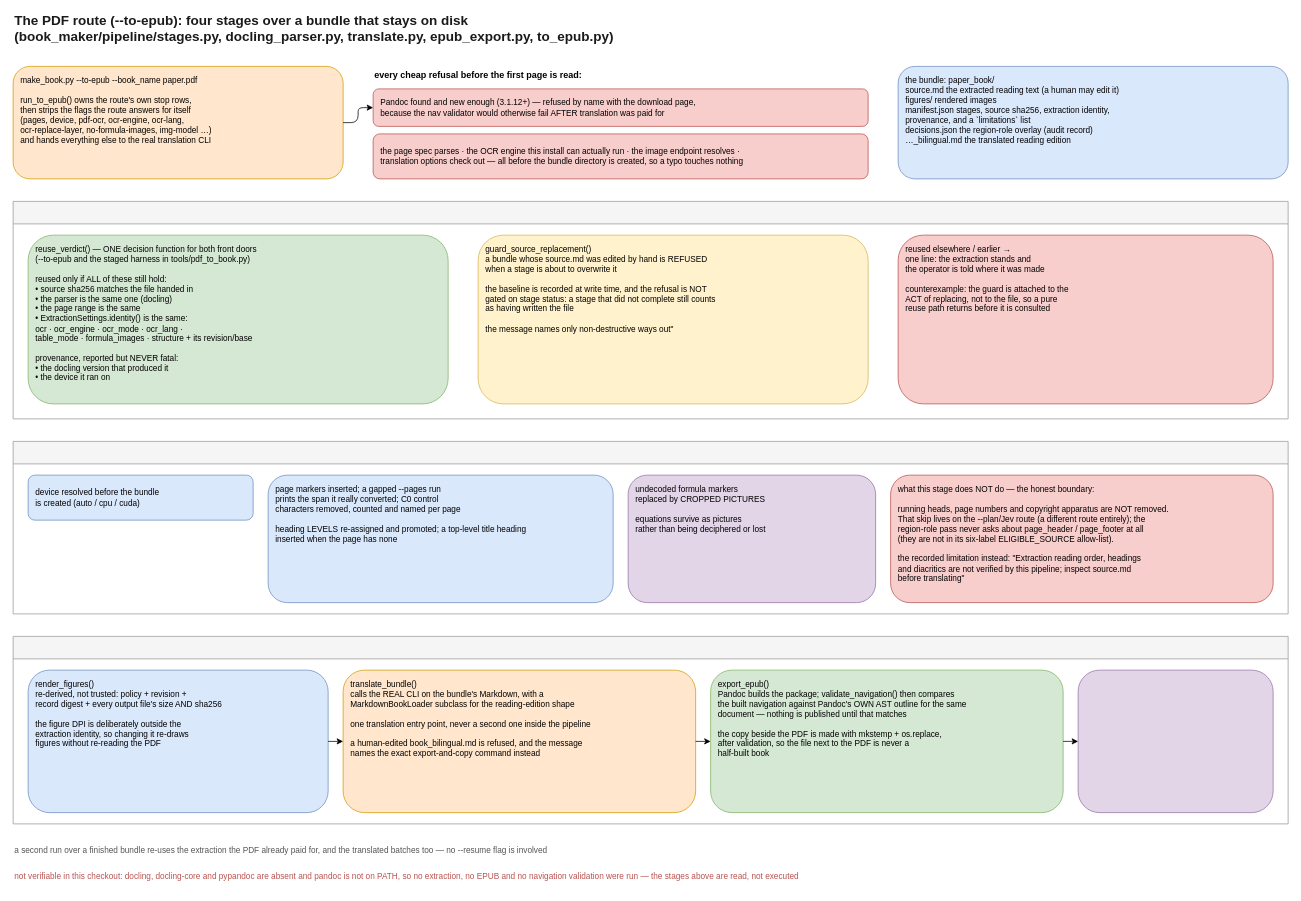
The diagram is 1301 pixels wide and 901 high, and some of its shapes have lost their labels. Each missing label, with the box of its shape:
paper_bilingual.epub beside the PDF: (1077, 669, 1273, 813)
STAGE 1 — prepare(): reuse or re-extract: (12, 201, 1288, 419)
STAGE 2 — extract(): read the PDF with docling: (12, 441, 1288, 614)
STAGE 3/4 — figures · translate the bundle's Markdown · export and validate: (12, 636, 1288, 824)
